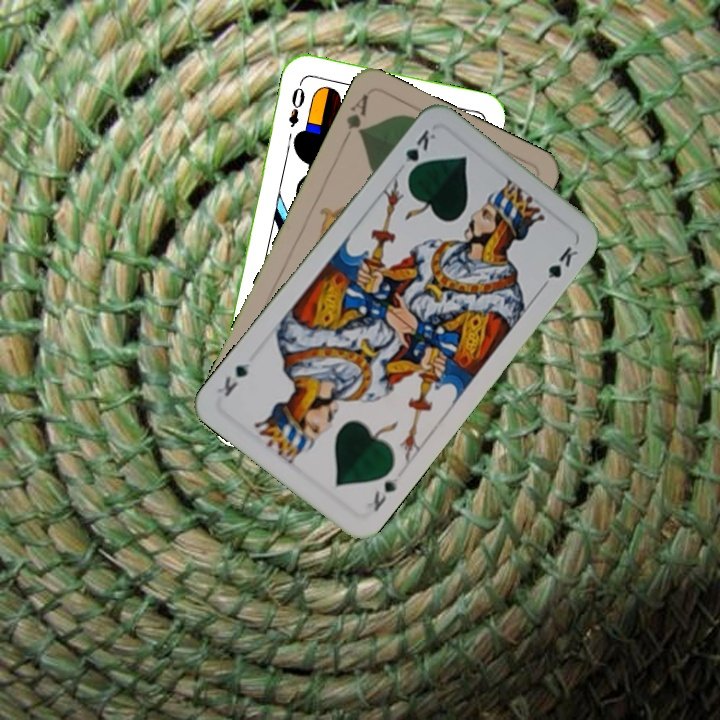EO: (284, 77, 308, 130)
GA: (339, 89, 371, 146)
GK: (394, 125, 439, 179), (369, 471, 404, 514)
